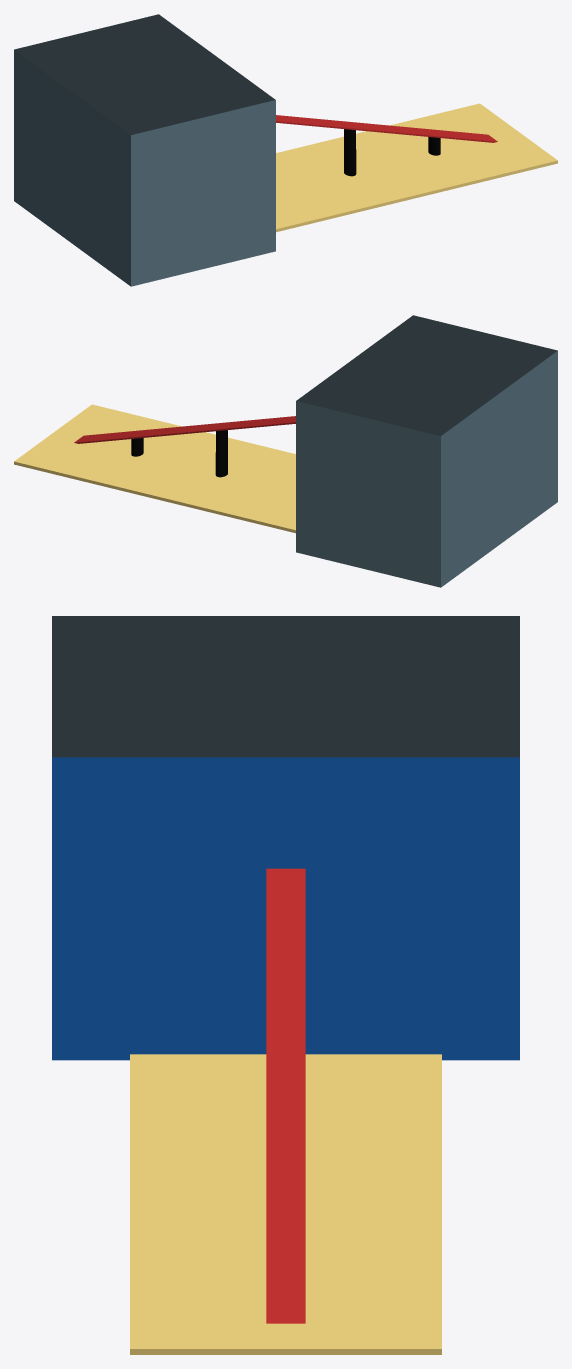
The model's file is MineModel.fbx.
3 renders of one model, top to bottom at view 1: azimuth 30°, elevation 25°; view 2: azimuth 150°, elevation 25°; view 3: azimuth 270°, elevation 25°, orthographic. The views are drawn at different scales.
Visible parts, largest first — view 1: MineModel; view 2: MineModel; view 3: MineModel.
Boxes of the visible parts, box(x1,y1,x2,y2) form: MineModel: box(14, 14, 557, 286); MineModel: box(14, 315, 557, 587); MineModel: box(52, 616, 519, 1354).
Size of the model in its own units: 1.85 by 0.6 by 0.84.
